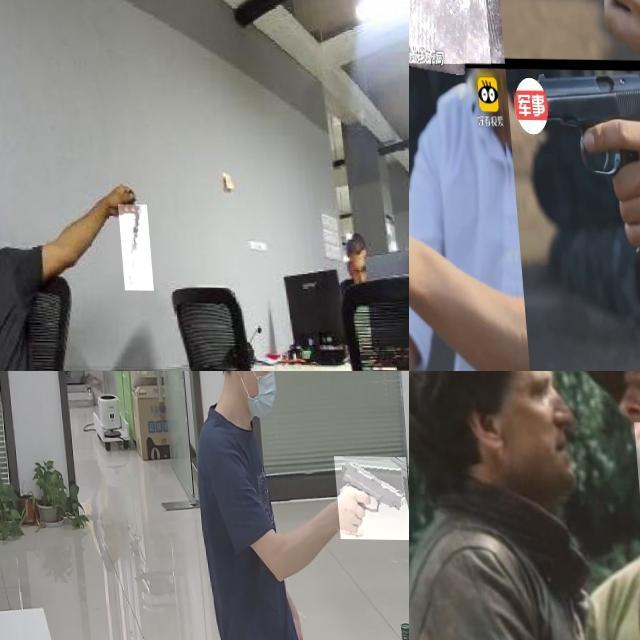-: (112, 204, 147, 290)
gun-knife-thesis - v11 Yolov5 augmented: (524, 67, 640, 284), (503, 0, 640, 158), (409, 0, 570, 129), (409, 103, 471, 277), (331, 454, 408, 538)
